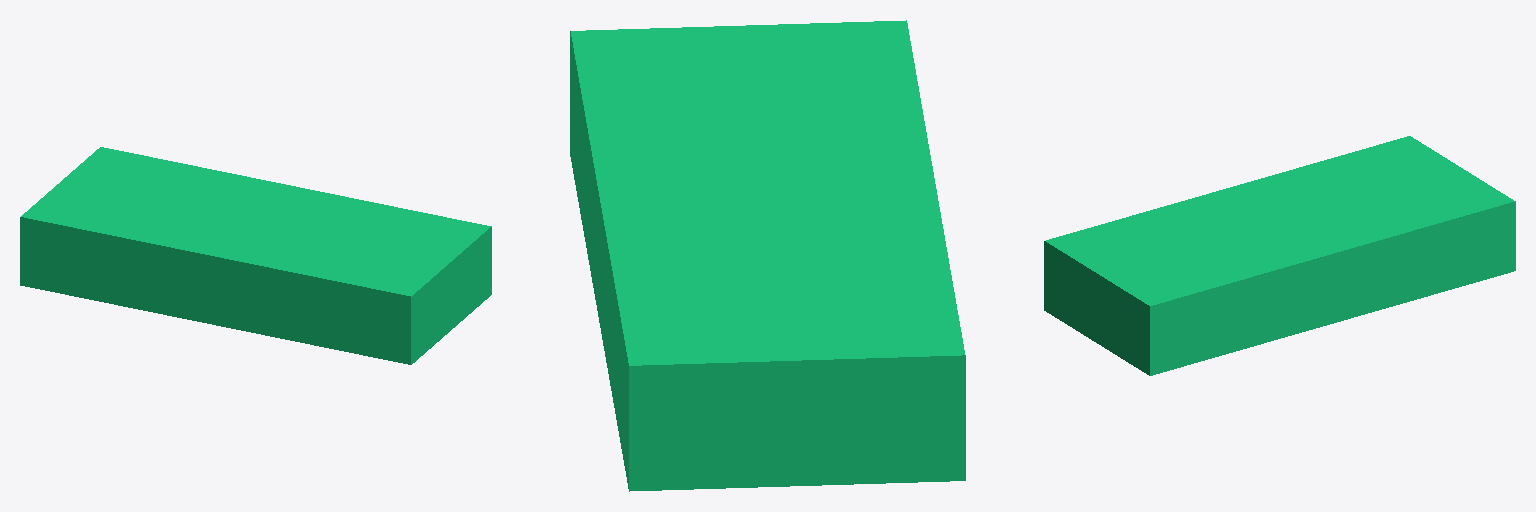
robot.urdf — Interference:
<?xml version="1.0"?>
<robot name="Interference">
  <link name="baseLink">
    <inertial>
      <origin xyz="0.0 0.0 0.0" rpy="0.0 0.0 0.0"/>
      <inertia ixx="0.0" ixy="0.0" ixz="0.0" iyy="0.0" iyz="0.0" izz="0.0"/>
      <mass value="0"/>
    </inertial>
    <visual>
      <origin xyz="0.0 0.0 0.0" rpy="0.0 0.0 -0.9734993760562254"/>
      <geometry>
        <box size="0.05732574818123468 0.024341508932417405 0.01"/>
      </geometry>
      <material name="color">
        <color rgba="0.14439527631344984 0.8433850324317284 0.5361470432735136 1.0"/>
      </material>
    </visual>
  </link>
</robot>

--- Facts derived from the render (not from the file) ---
The picture shows the robot from 3 angles, left to right: view 1: azimuth 30°, elevation 25°; view 2: azimuth 150°, elevation 25°; view 3: azimuth 270°, elevation 25°; orthographic projection.
Model Interference with 1 links and 0 joints (none), rooted at baseLink, posed every joint at zero.
Visible links, largest first — view 1: baseLink; view 2: baseLink; view 3: baseLink.
Link boxes in pixels (x1,y1,x2,y2): baseLink: (20,147,491,364); baseLink: (570,20,965,491); baseLink: (1044,136,1515,375).
Size in the robot's own frame: 0.0524 by 0.0611 by 0.01 metres.
Geometry: primitives only (box / cylinder / sphere), no mesh files.